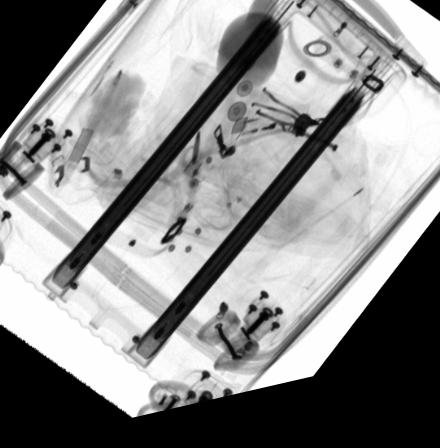Lighter: (207, 118, 310, 163)
